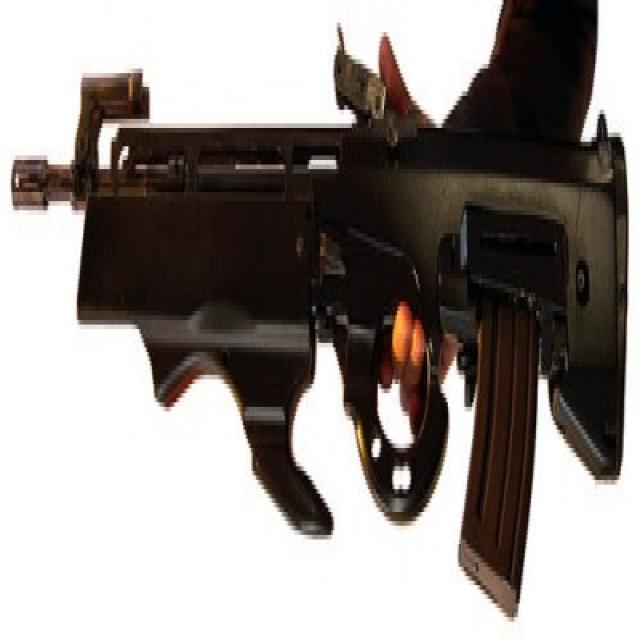rifle: (3, 1, 633, 632)
